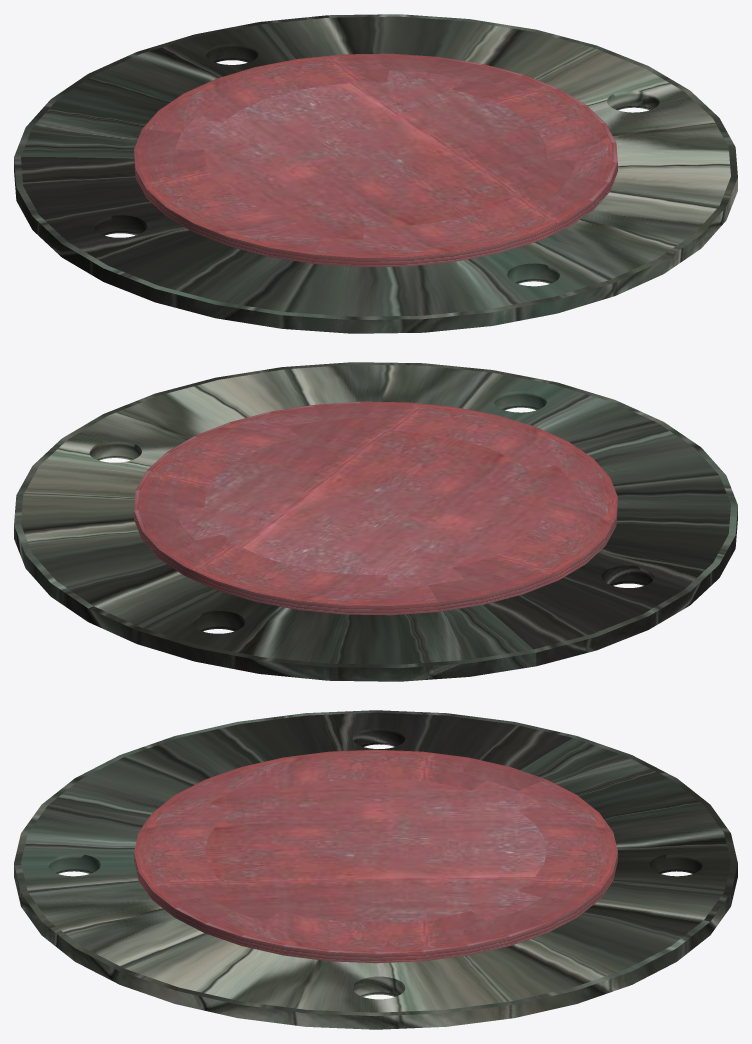
Rendered from plataforma.fbx.
3 views of the same model, one above another, from view 1: azimuth 30°, elevation 25°; view 2: azimuth 150°, elevation 25°; view 3: azimuth 270°, elevation 25° (orthographic).
Visible parts, largest first — view 1: Sphere_002, Sphere_000; view 2: Sphere_002, Sphere_000; view 3: Sphere_002, Sphere_000.
Part boxes in pixels (x1,y1,x2,y2): Sphere_002: (14,14,737,333); Sphere_000: (134,53,617,267); Sphere_002: (14,362,737,681); Sphere_000: (134,401,617,615); Sphere_002: (14,710,737,1029); Sphere_000: (134,749,617,963).
Bounding box in the file's own units: 8.48 × 0.3756 × 8.48.
